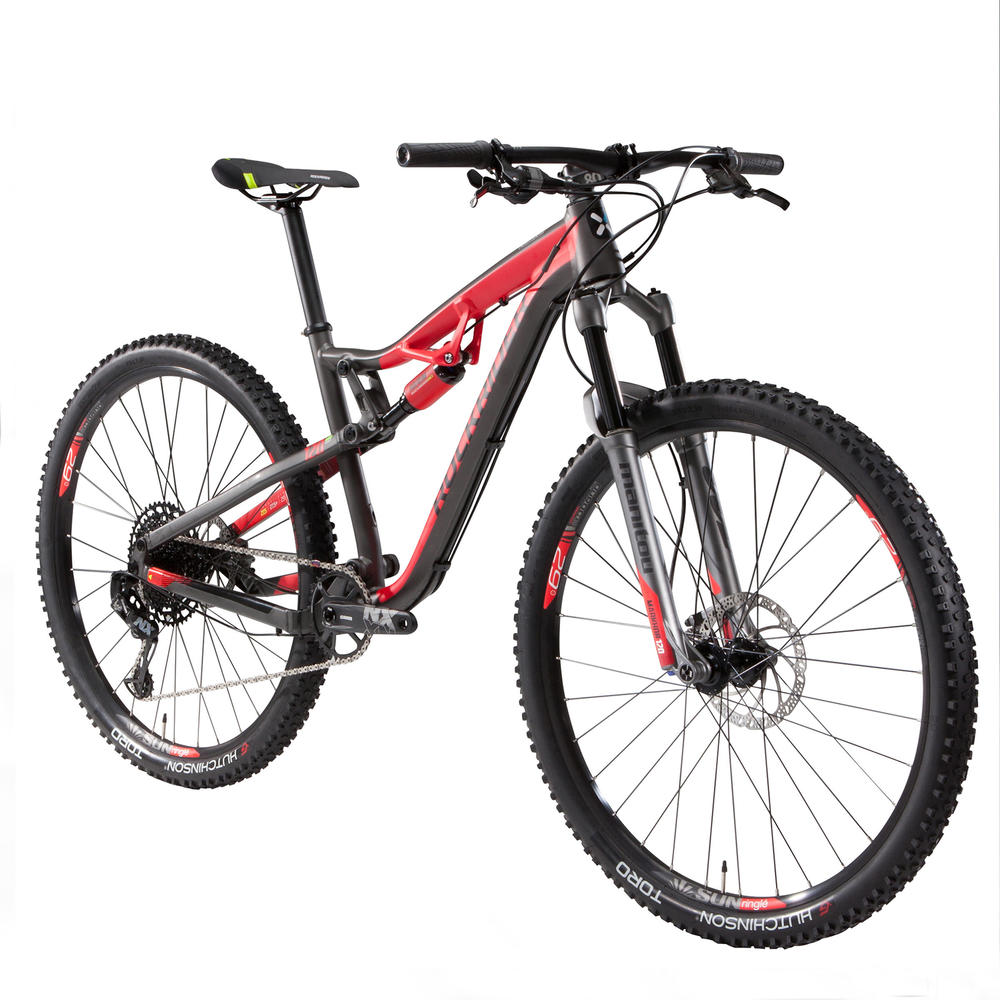RoadBike: (16, 49, 984, 917)
